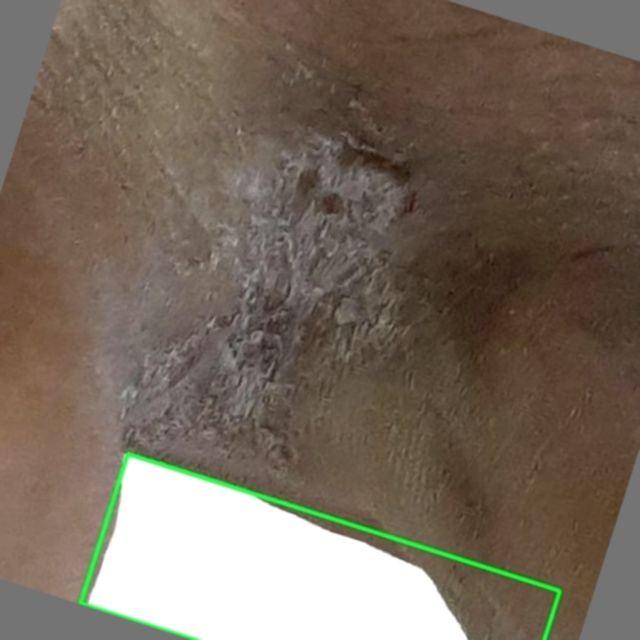Contact Dermatitis: (79, 453, 560, 639)
